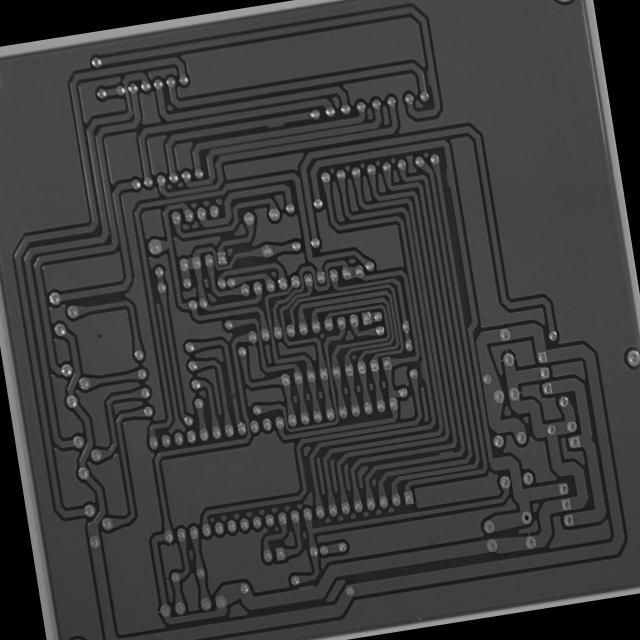spur: (440, 162, 457, 192), (262, 115, 288, 132), (422, 64, 437, 90), (416, 356, 429, 385), (436, 448, 456, 460)
